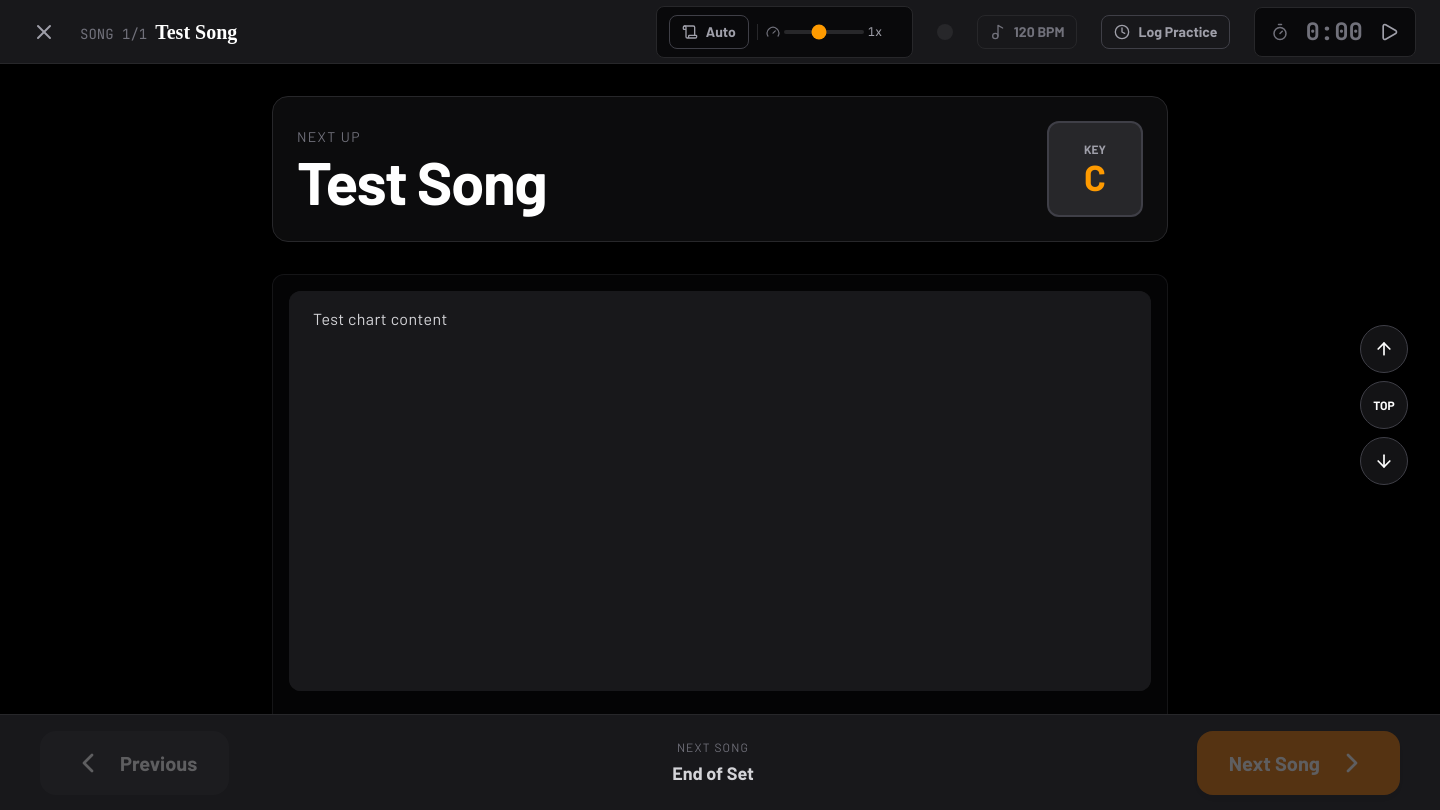
it: PerformanceMode - Practice Log Dialog › dialog open/close behavior › should open dialog when Log Practice button clicked
Click the button "Log Practice" at (1166, 32), box [1102, 14, 1230, 48]
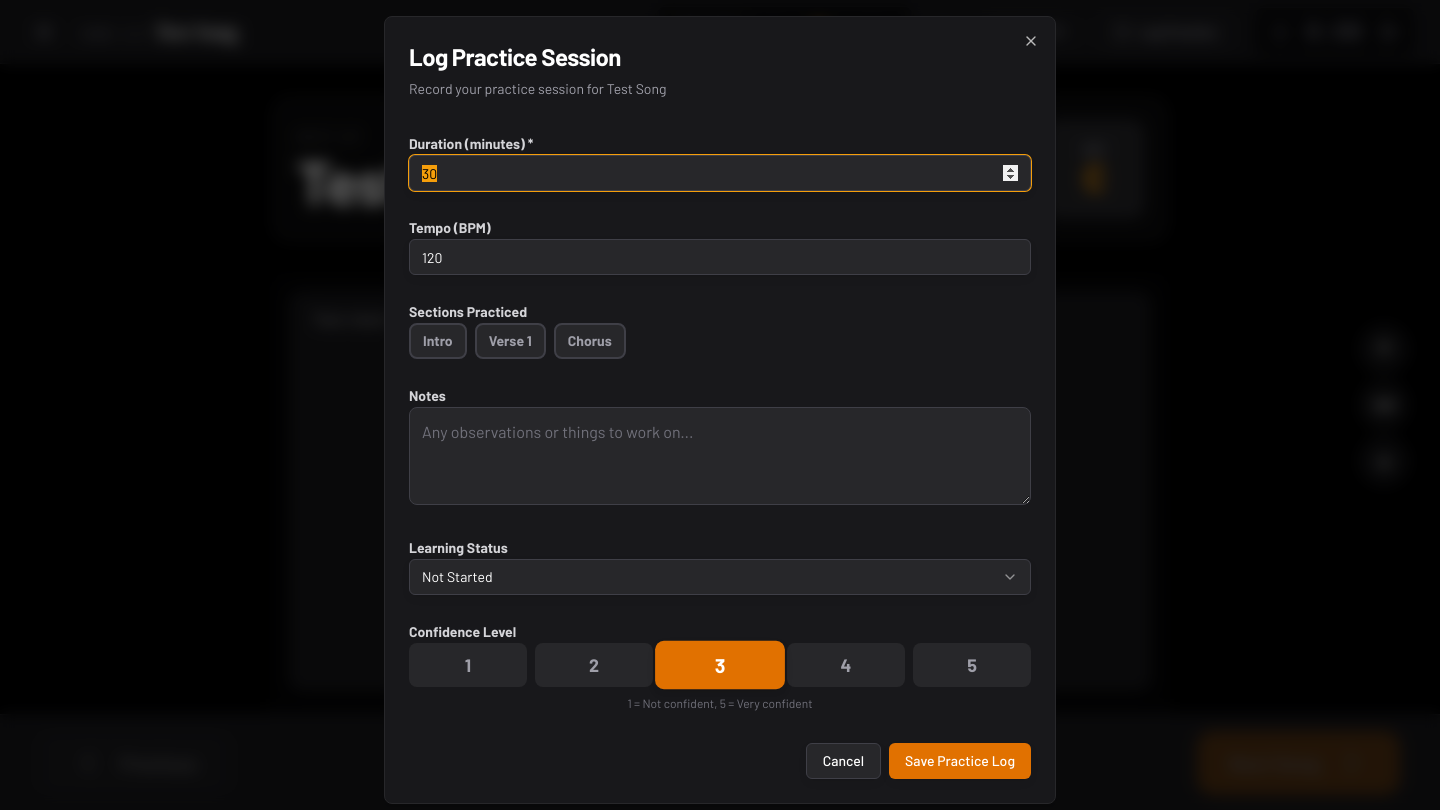
expect the heading "Log Practice Session" is shown: met, box [409, 42, 621, 71]
